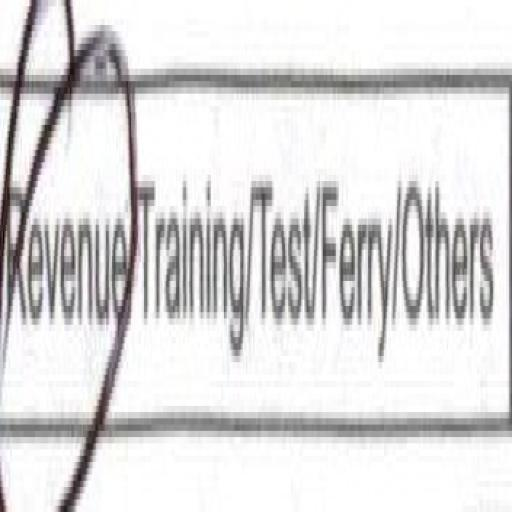check: (0, 0, 129, 512)
